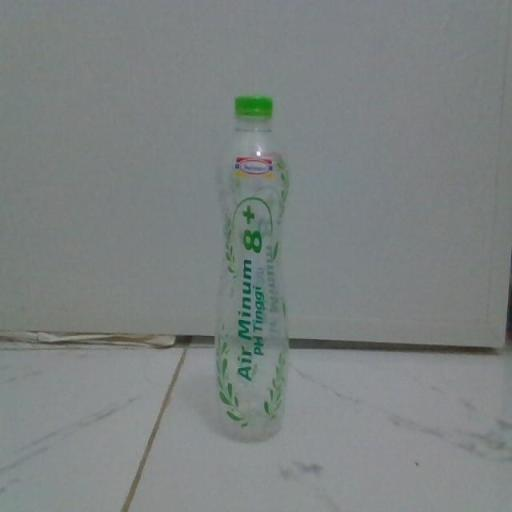plastic: (214, 94, 290, 443)
